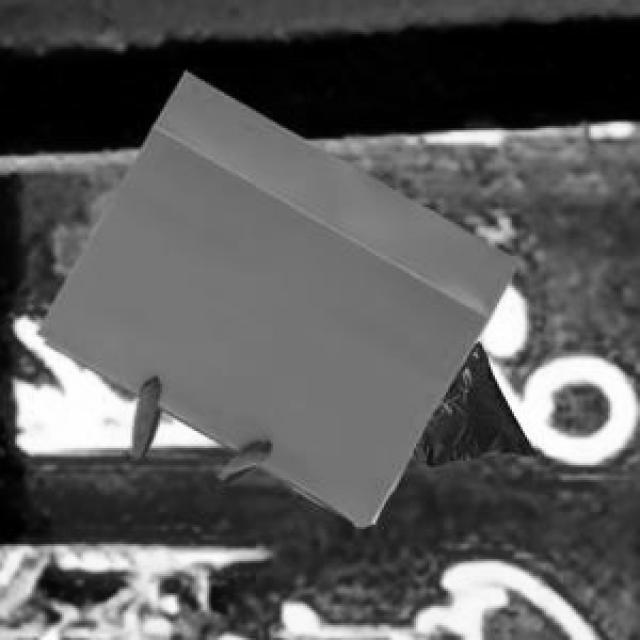miscellaneous trash: (408, 339, 529, 463)
paper: (34, 68, 516, 523)
